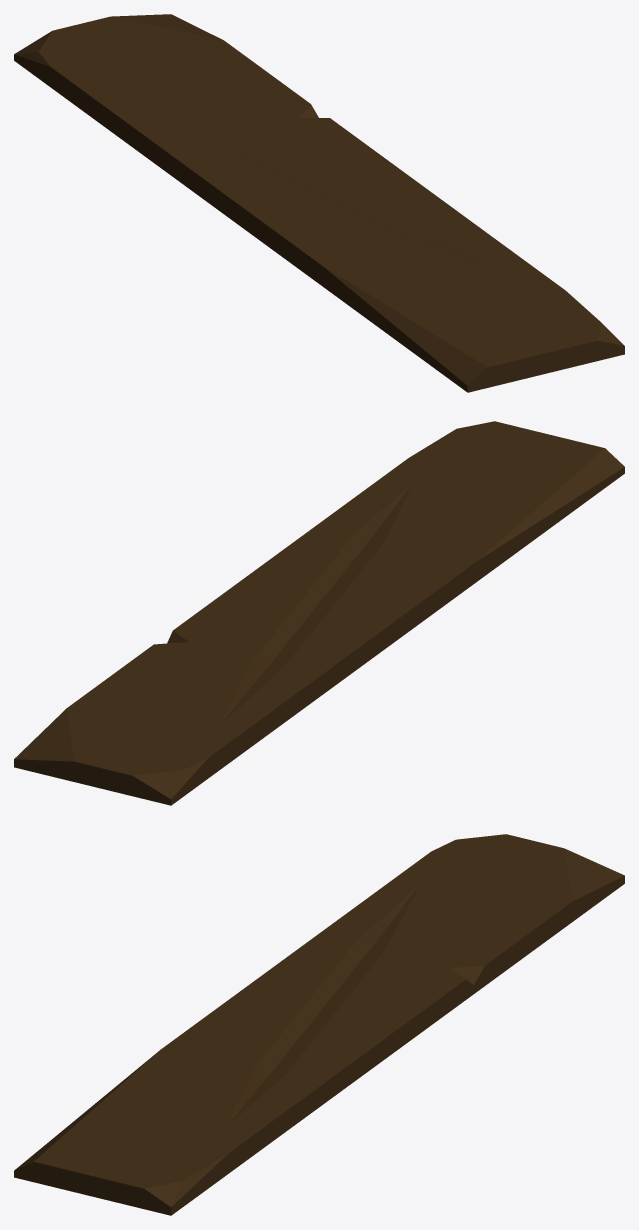
The model's file is shelf.fbx.
The picture shows the model from 3 angles, top to bottom: view 1: azimuth 30°, elevation 25°; view 2: azimuth 150°, elevation 25°; view 3: azimuth 330°, elevation 25°; orthographic projection.
Parts seen in each view (by area): view 1: Plane; view 2: Plane; view 3: Plane.
Boxes of the visible parts, left/top/right/bottom form: Plane: left=14, top=14, right=624, bottom=392; Plane: left=14, top=421, right=624, bottom=805; Plane: left=14, top=834, right=624, bottom=1215.
Size of the model in its own units: 200 by 25 by 1000.
